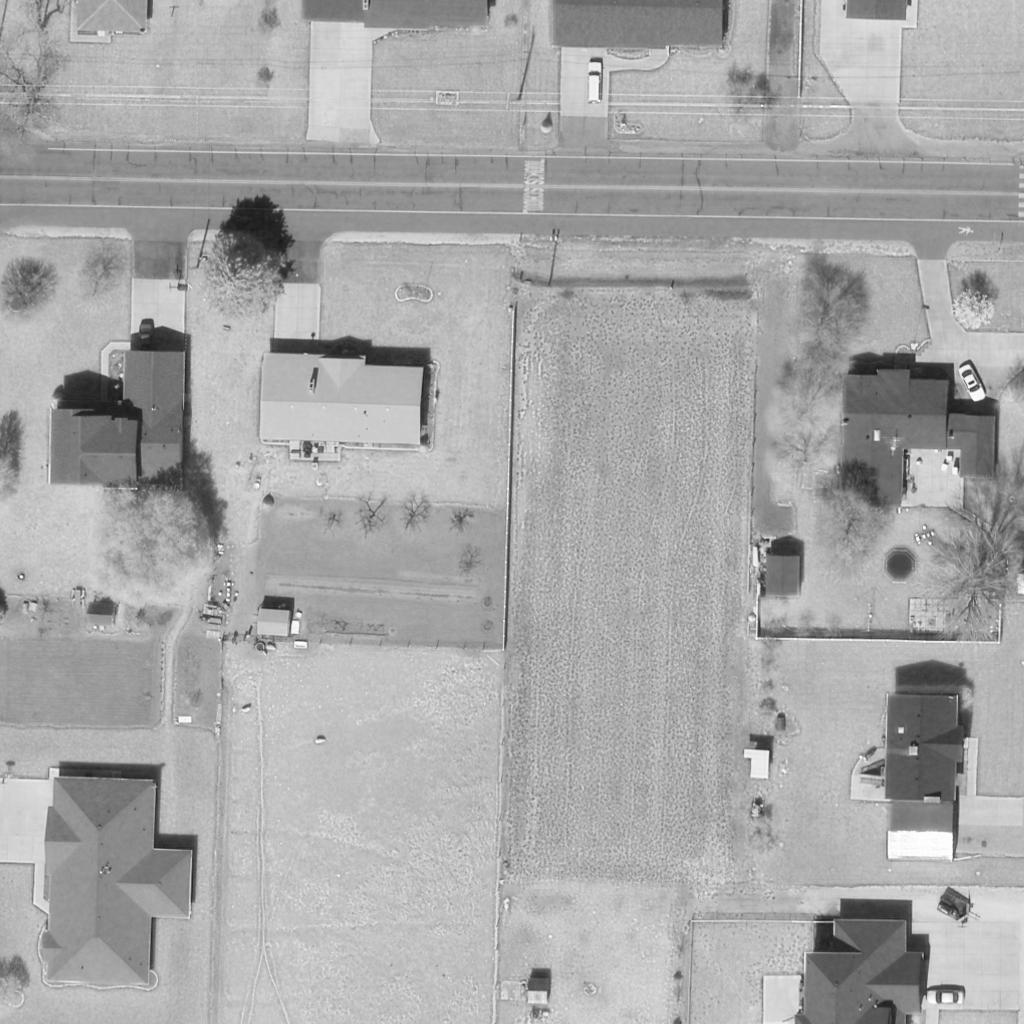vehicle: (957, 363, 987, 403), (586, 63, 604, 105), (926, 990, 966, 1004), (138, 326, 156, 356)
